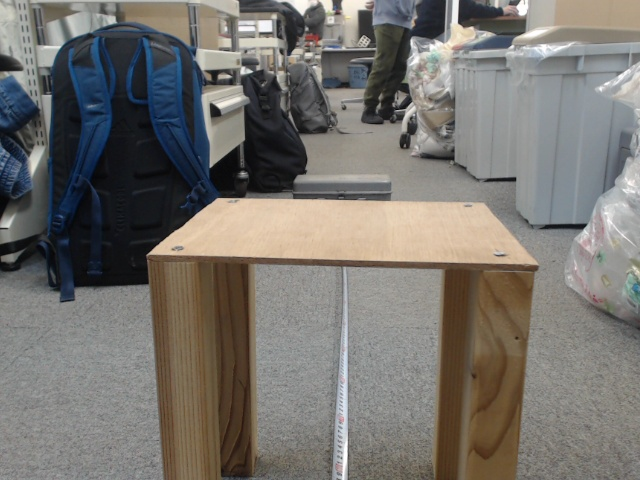desk: (230, 149, 457, 401)
